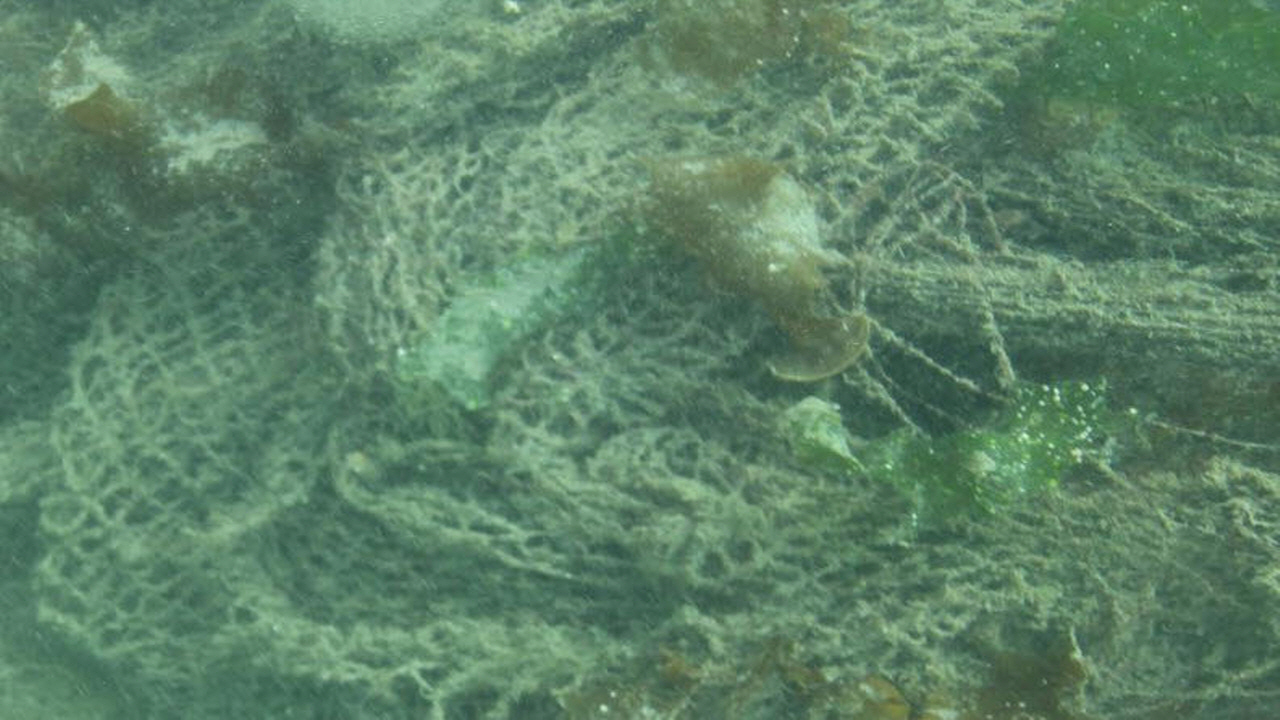fish net: (1, 0, 1280, 720)
